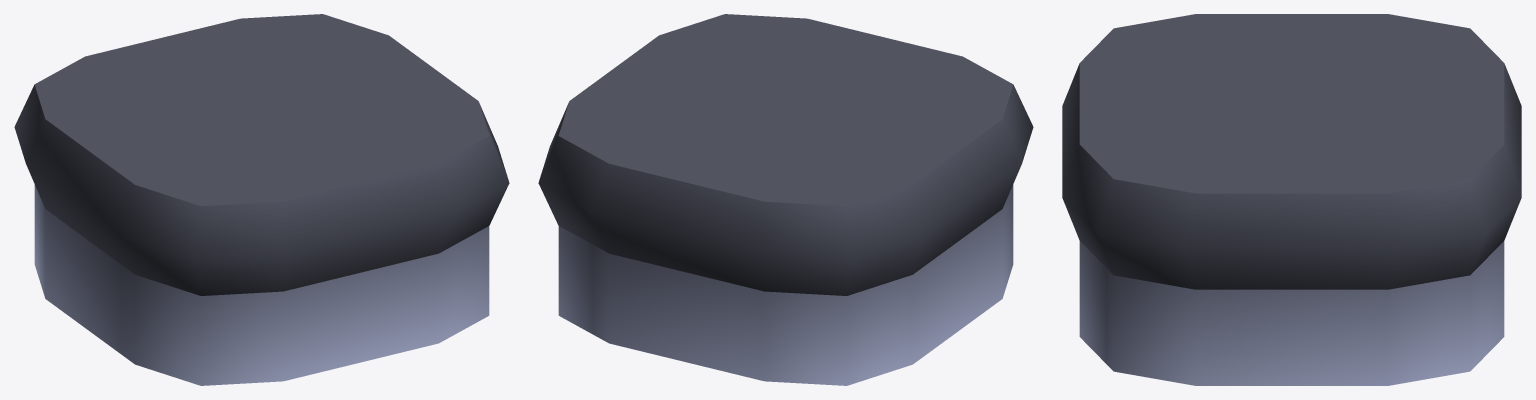
File: block-snow-low.glb
3 renders of one model, left to right at view 1: azimuth 30°, elevation 25°; view 2: azimuth 150°, elevation 25°; view 3: azimuth 270°, elevation 25°, orthographic. The views are drawn at different scales.
Parts seen in each view (by area): view 1: block-snow-low; view 2: block-snow-low; view 3: block-snow-low.
Part boxes in pixels (box(x1,y1,x2,y2)): block-snow-low: box(14, 14, 509, 385); block-snow-low: box(538, 14, 1033, 385); block-snow-low: box(1062, 14, 1521, 385).
Size of the model in its own units: 1.08 by 0.5 by 1.08.
